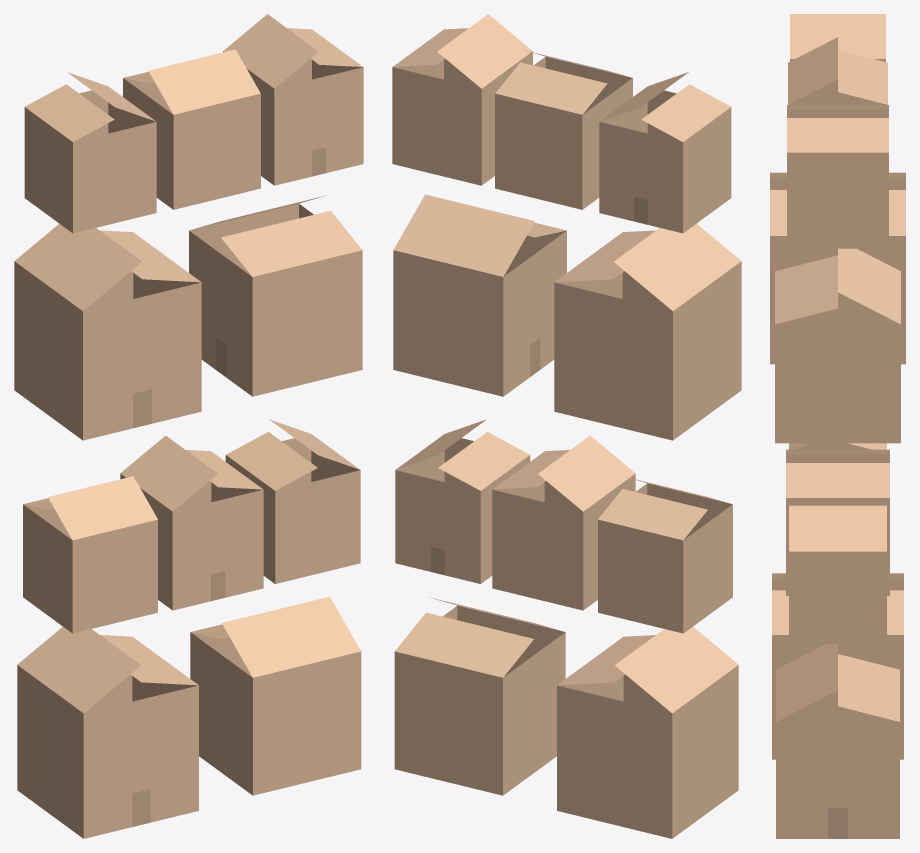
The picture shows the model from 3 angles, left to right: view 1: azimuth 30°, elevation 25°; view 2: azimuth 150°, elevation 25°; view 3: azimuth 270°, elevation 25°; orthographic projection.
Parts seen in each view (by area): view 1: Kartongpaket · 10 kartonger; view 2: Kartongpaket · 10 kartonger; view 3: Kartongpaket · 10 kartonger.
Part boxes in pixels (left/top/right/bottom): Kartongpaket · 10 kartonger: left=14, top=14, right=363, bottom=838; Kartongpaket · 10 kartonger: left=392, top=14, right=741, bottom=838; Kartongpaket · 10 kartonger: left=770, top=14, right=905, bottom=838.
Size of the model in its own units: 0.83 by 1.98 by 0.34.
